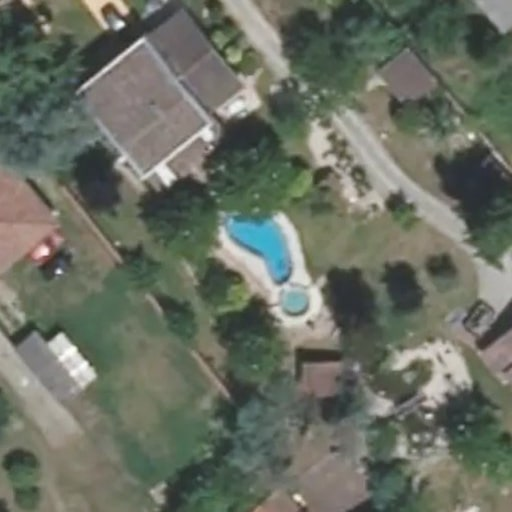pool: (223, 213, 318, 320)
